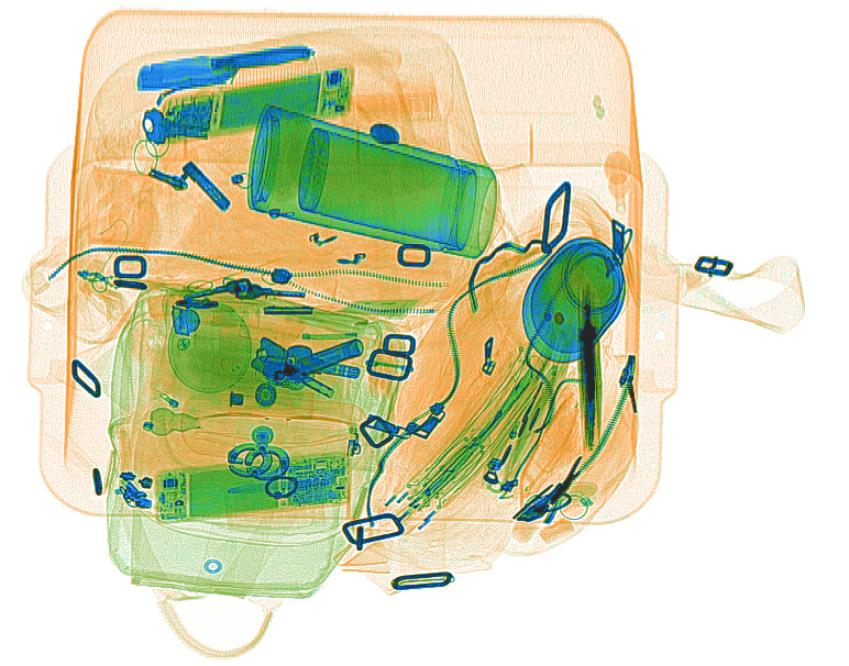knife: (137, 53, 244, 91), (209, 44, 316, 71)
